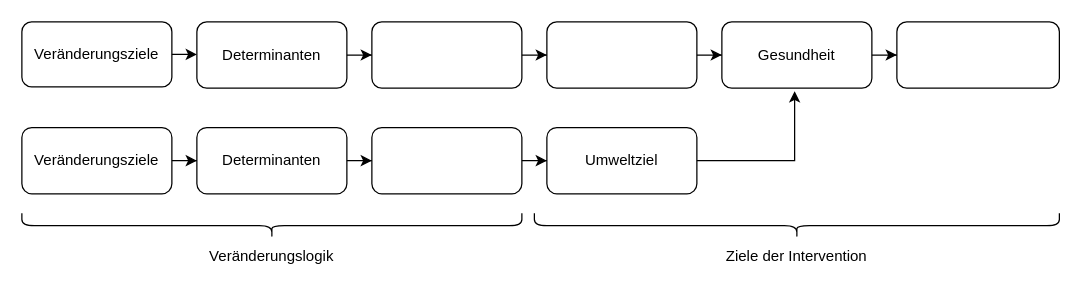
This 1081x298 diagram has some shape labels left out. The shapes that lost their labels are listed below. From the top down, each one's centre as x and y in pixels, then its label:
At [446,54]: "Handlungsziel bzgl. Zielgruppe".
At [621,54]: "Verhaltensziel".
At [977,54]: "gesundheitsbezogene Lebensqualität".
At [446,160]: "Handlungsziel bzgl. Umwelt".
